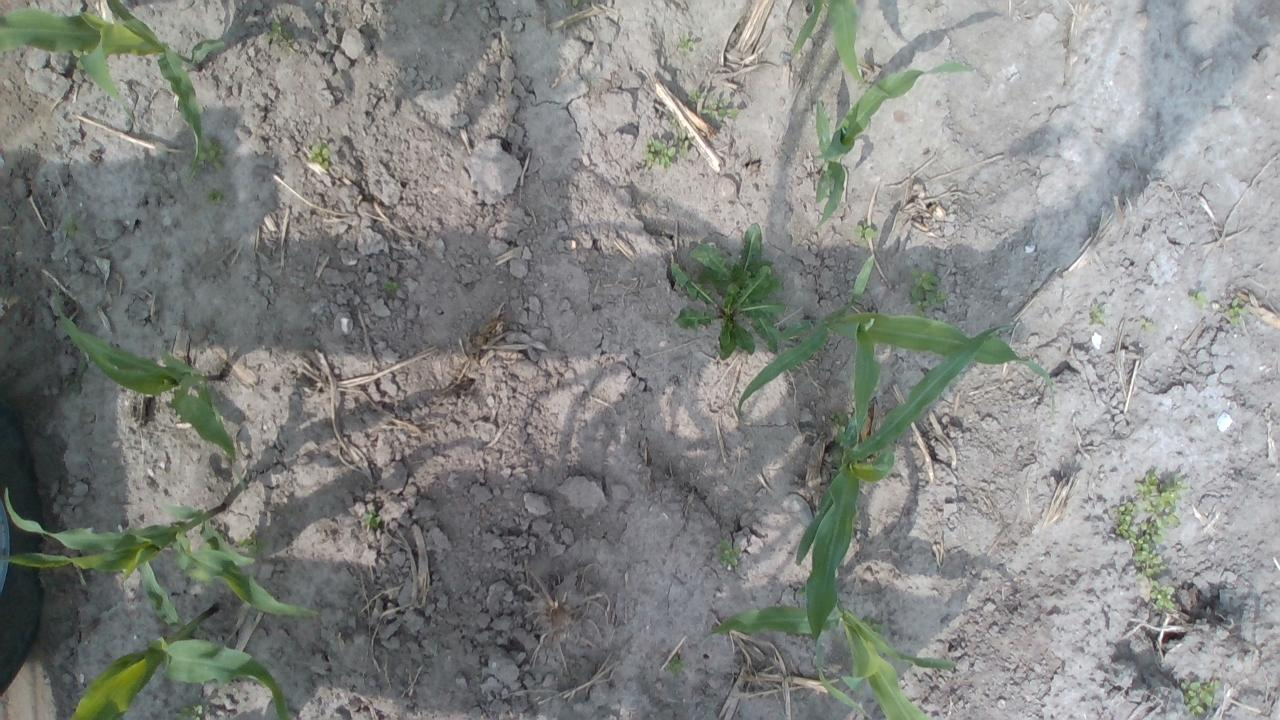Maize: (793, 324, 1023, 720), (736, 256, 1058, 433), (0, 486, 323, 620), (0, 0, 226, 177), (67, 560, 290, 720), (51, 286, 237, 464), (702, 593, 955, 720), (816, 60, 975, 223), (791, 0, 866, 83)
Weeds: (670, 222, 786, 358), (1134, 467, 1189, 530), (1132, 518, 1169, 578), (644, 128, 690, 168), (909, 269, 948, 311), (1180, 678, 1222, 716), (700, 98, 739, 128), (192, 142, 225, 174), (238, 534, 272, 560), (266, 14, 294, 44), (1116, 501, 1138, 539), (1151, 580, 1175, 611), (306, 142, 332, 170), (718, 539, 742, 568), (1231, 296, 1247, 326), (853, 224, 878, 243), (176, 704, 204, 720), (830, 410, 850, 432), (675, 32, 697, 52), (63, 216, 80, 241), (666, 657, 686, 676), (864, 616, 884, 635), (1189, 290, 1210, 307), (1088, 304, 1104, 326), (364, 510, 381, 530), (382, 279, 400, 295), (207, 189, 226, 204), (686, 89, 700, 104), (1140, 319, 1155, 333), (198, 542, 216, 553), (73, 49, 89, 58), (566, 0, 584, 8), (238, 468, 247, 480), (670, 119, 679, 129)
